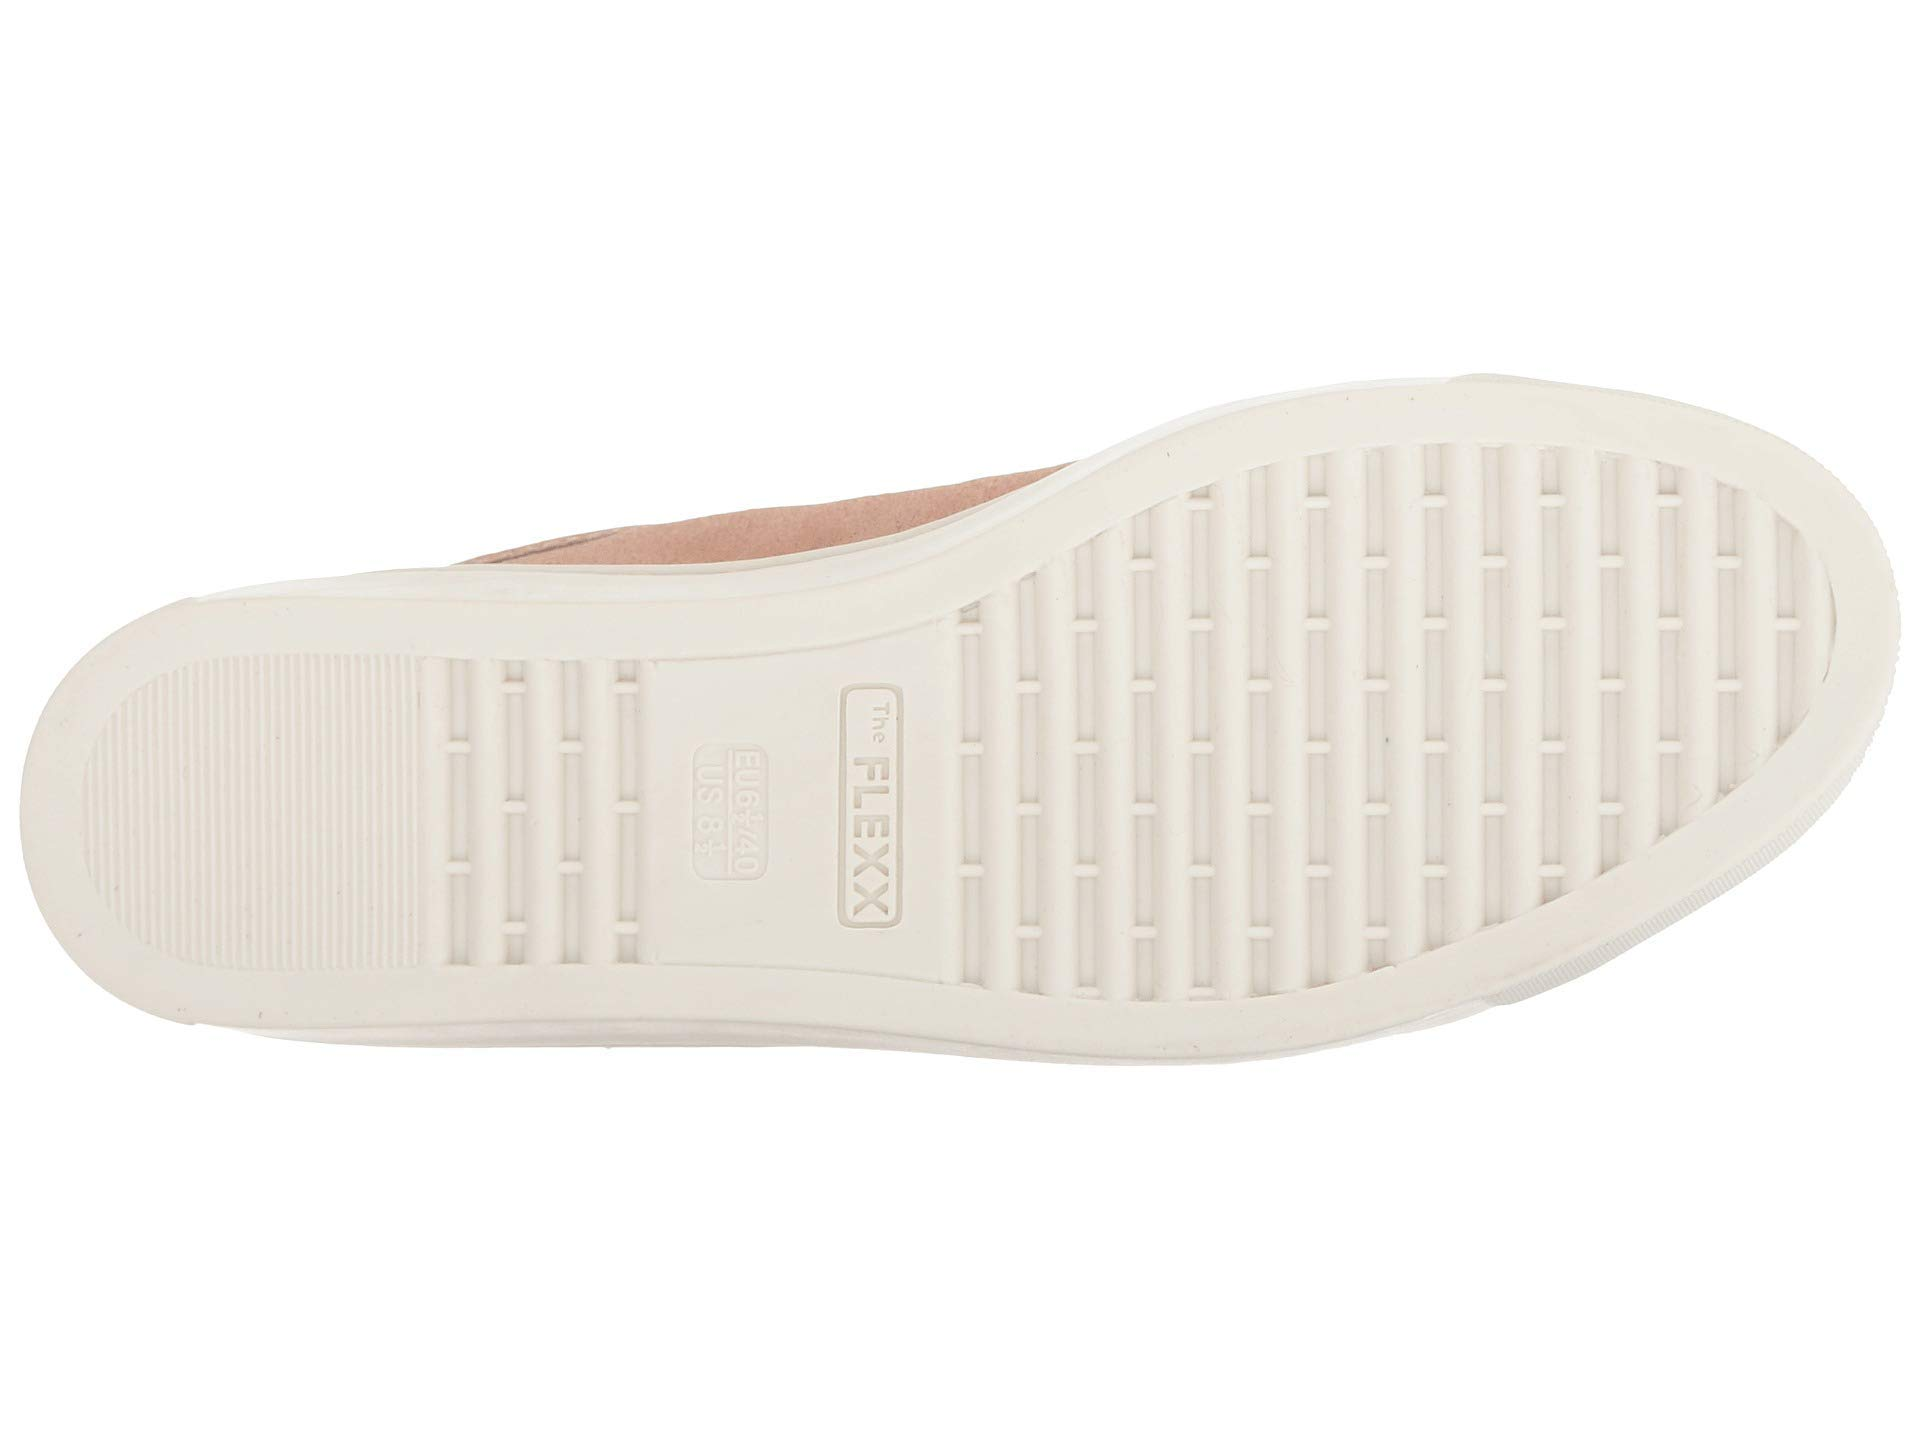line: (1011, 534, 1435, 938), (181, 666, 568, 976)
quad: (1011, 534, 1435, 938), (627, 656, 975, 1004), (181, 666, 568, 976)
text: (627, 656, 975, 1004)
